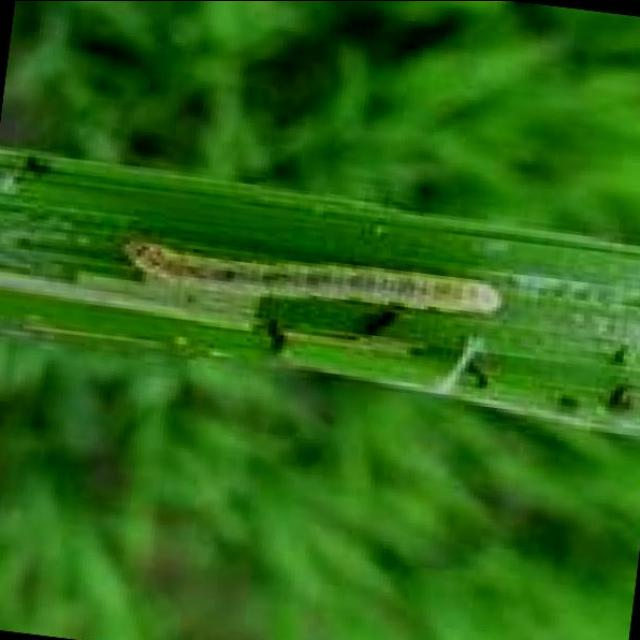leaf folder: (126, 242, 501, 314)
